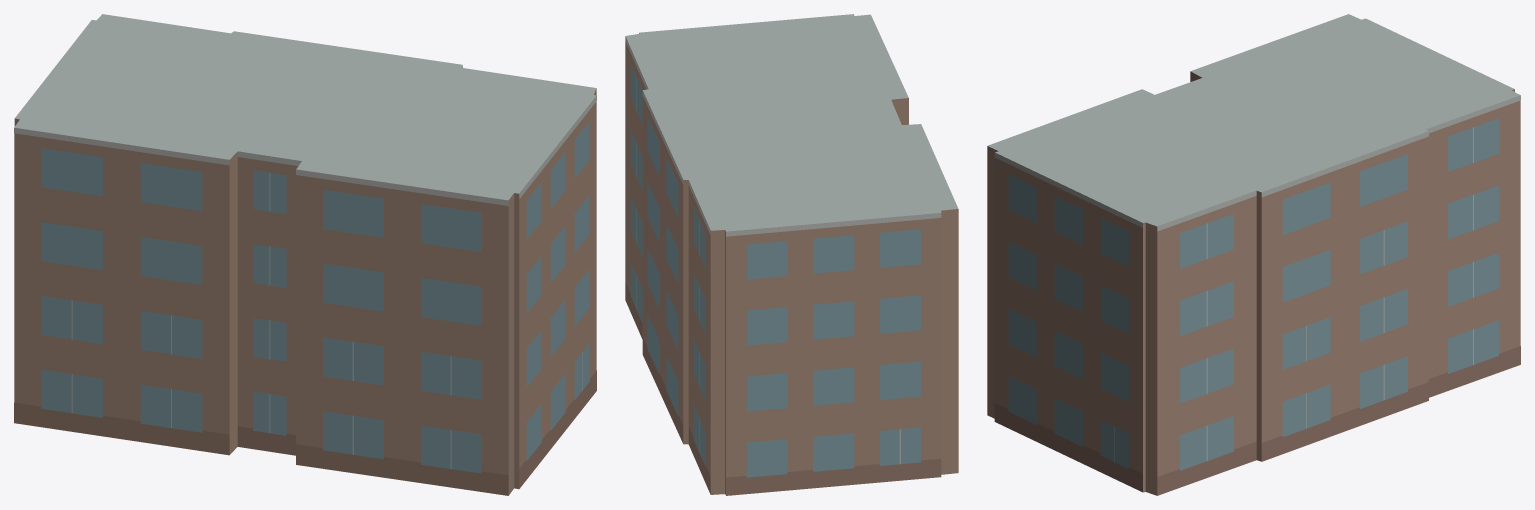
File: survey-upis-32917315.glb
3 renders of one model, left to right at view 1: azimuth 30°, elevation 25°; view 2: azimuth 150°, elevation 25°; view 3: azimuth 270°, elevation 25°, orthographic. The views are drawn at different scales.
Visible parts, largest first — view 1: survey-upis-32917315.tmp; view 2: survey-upis-32917315.tmp; view 3: survey-upis-32917315.tmp.
Part boxes in pixels (x1,y1,x2,y2): survey-upis-32917315.tmp: [14, 14, 596, 495]; survey-upis-32917315.tmp: [625, 14, 958, 495]; survey-upis-32917315.tmp: [987, 14, 1520, 495].
Size of the model in its own units: 21.83 by 12.9 by 23.16.
